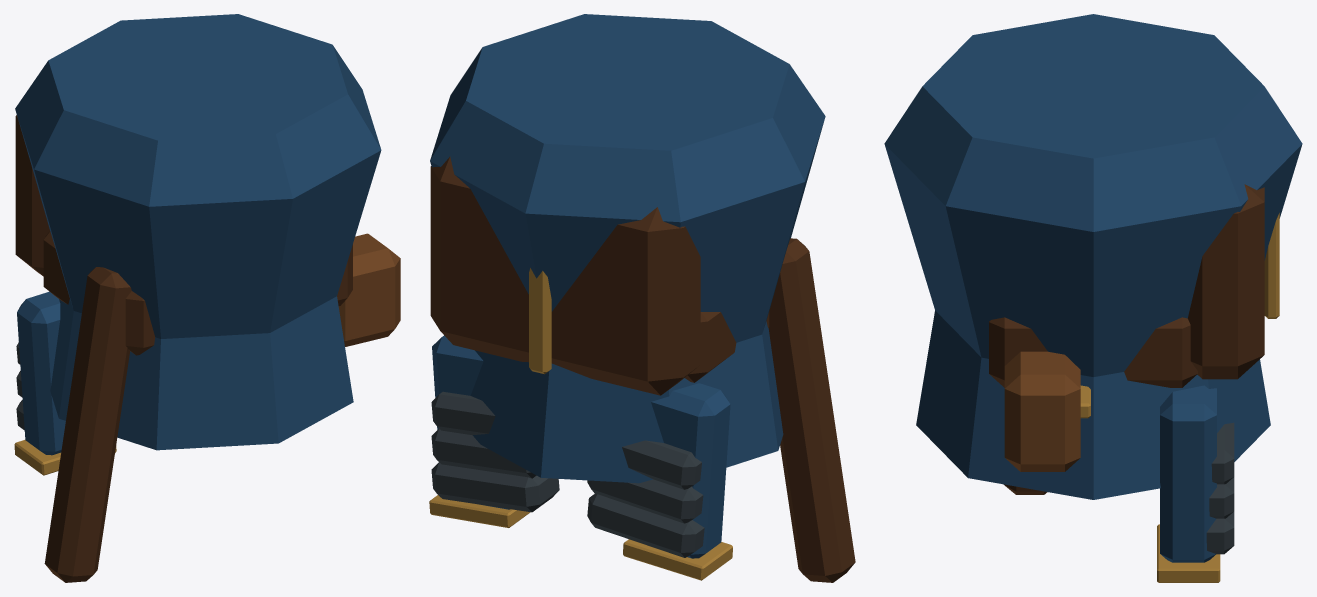
The model's file is Body.glb.
The picture shows the model from 3 angles, left to right: view 1: azimuth 30°, elevation 25°; view 2: azimuth 150°, elevation 25°; view 3: azimuth 270°, elevation 25°; orthographic projection. The views are drawn at different scales.
Visible parts, largest first — view 1: Sculpture; view 2: Sculpture; view 3: Sculpture.
Boxes of the visible parts, x1=… form: Sculpture: x1=14, y1=14, x2=400, y2=582; Sculpture: x1=429, y1=14, x2=855, y2=582; Sculpture: x1=884, y1=14, x2=1302, y2=582.
Size of the model in its own units: 0.6935 by 0.8496 by 0.66.
